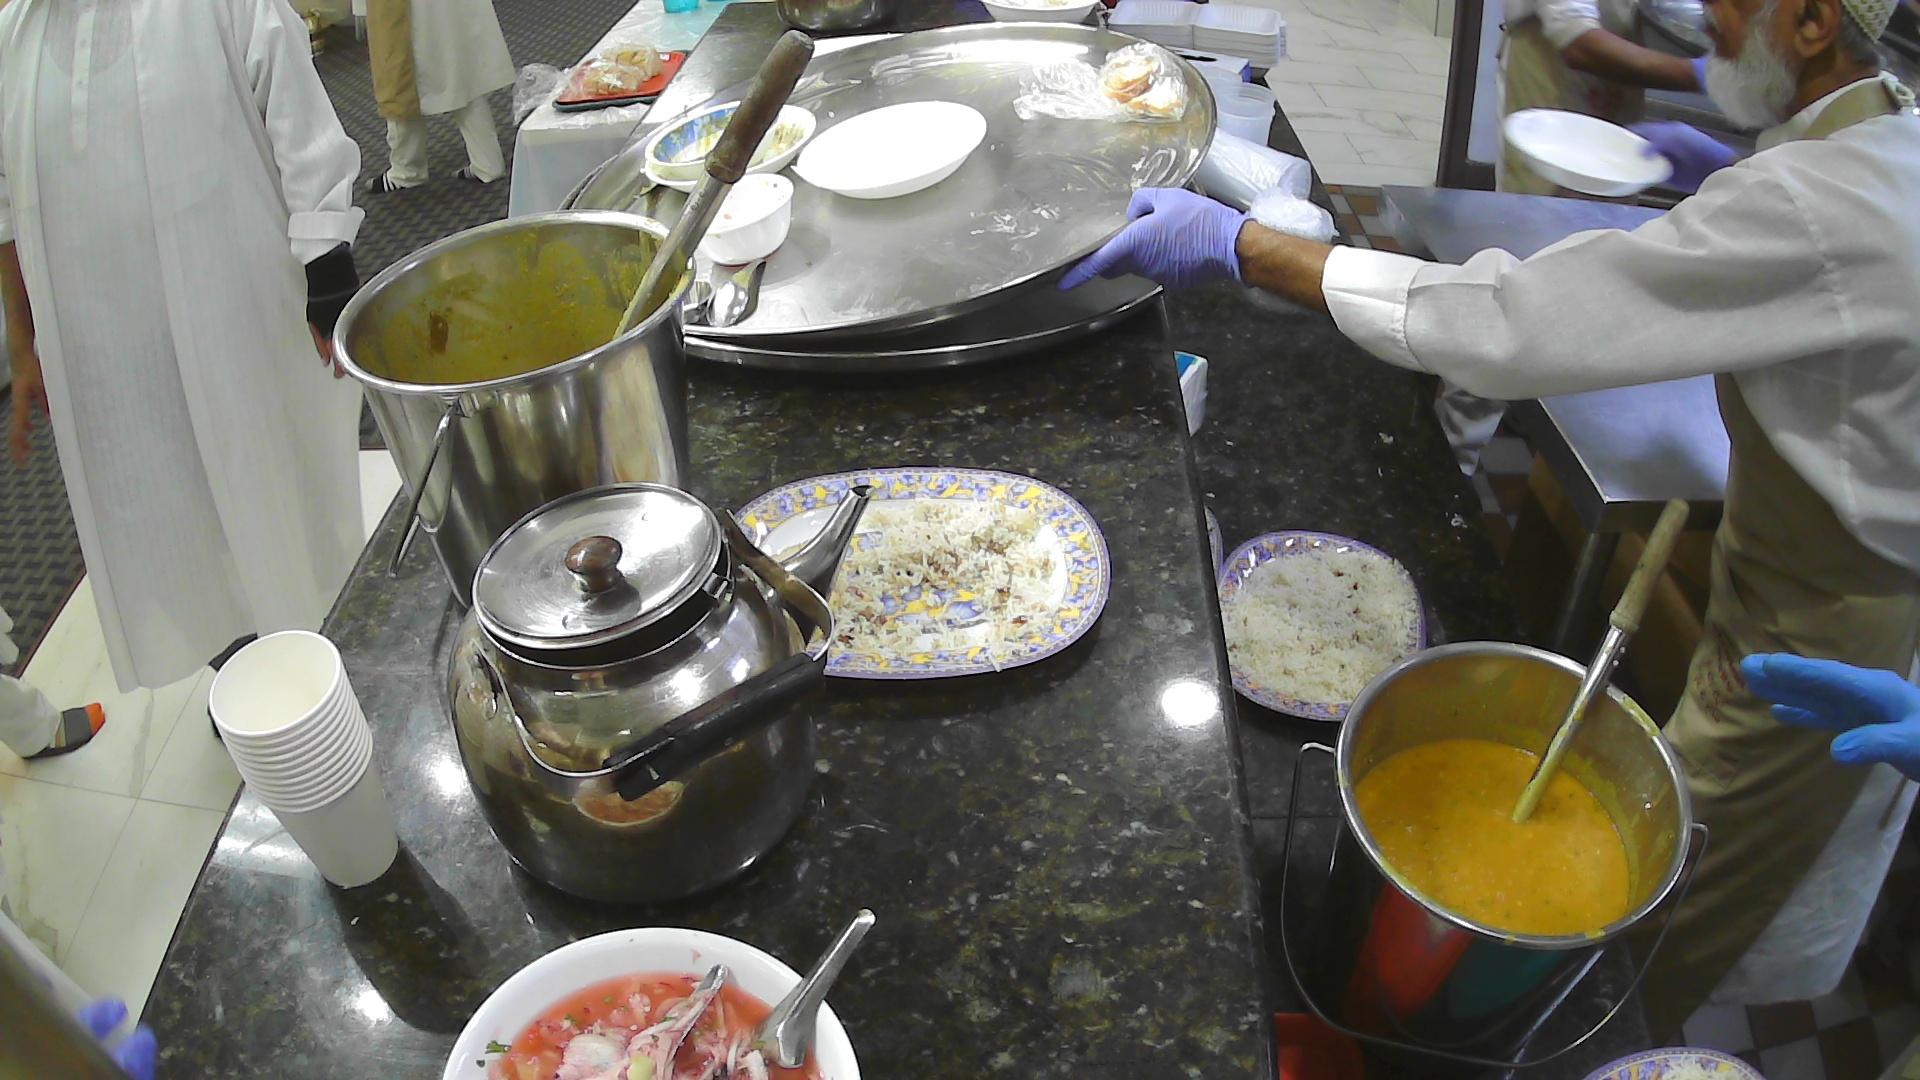thaal: (567, 20, 1218, 347), (554, 156, 1211, 378)
